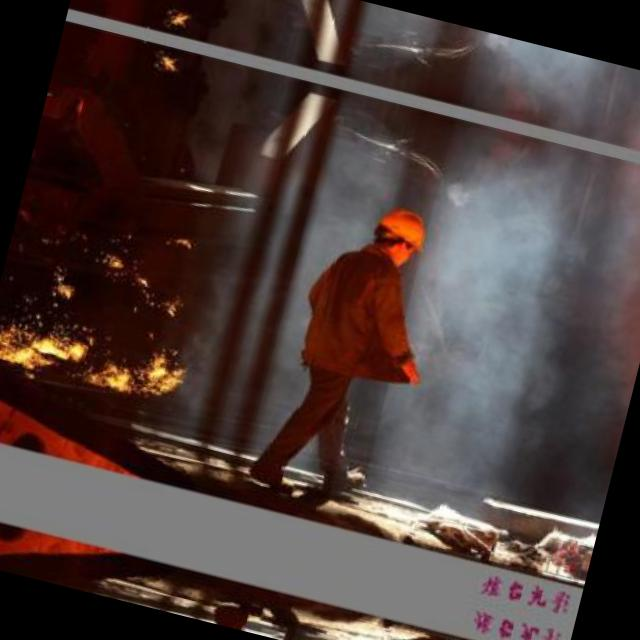helmet: (364, 200, 432, 270)
